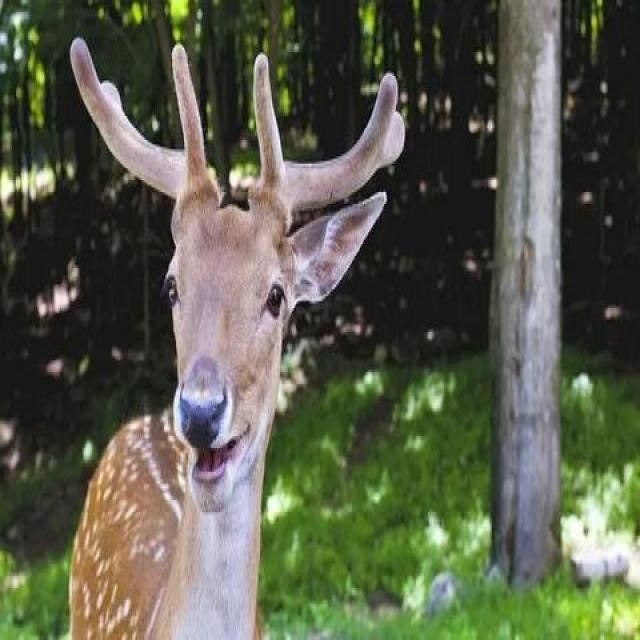deer: (16, 1, 422, 640)
